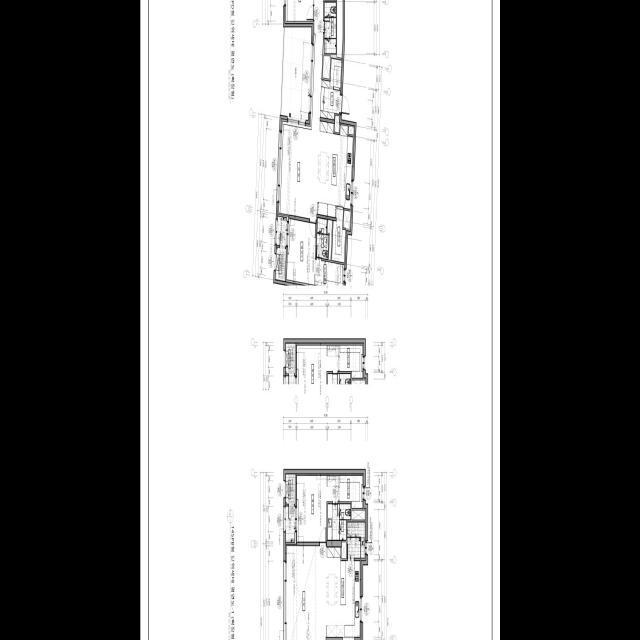background: (140, 0, 500, 640)
space_balconi: (281, 27, 311, 120), (347, 523, 365, 558), (285, 506, 294, 542), (276, 216, 286, 247)
space_bedroom: (297, 476, 338, 542), (286, 219, 316, 285), (286, 0, 313, 21)
space_dressroom: (314, 260, 344, 291), (339, 476, 362, 508)
space_front: (320, 80, 342, 120)
space_kitchen: (317, 121, 353, 218), (326, 547, 360, 637)
space_living_room: (278, 0, 323, 220), (286, 546, 326, 640)
space_other: (324, 0, 342, 58), (331, 209, 345, 263), (275, 247, 286, 281), (330, 58, 341, 89), (327, 220, 332, 260), (322, 56, 330, 79), (351, 510, 365, 520), (343, 210, 350, 229), (334, 115, 339, 133), (341, 542, 346, 558), (348, 126, 353, 135)
space_outdoor_room: (285, 474, 295, 504)
space_toilet: (327, 504, 350, 540), (324, 3, 336, 53), (316, 218, 328, 259)
